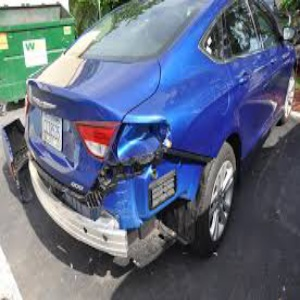bumper: (84, 174, 184, 266)
tail_lights: (72, 117, 169, 165)
